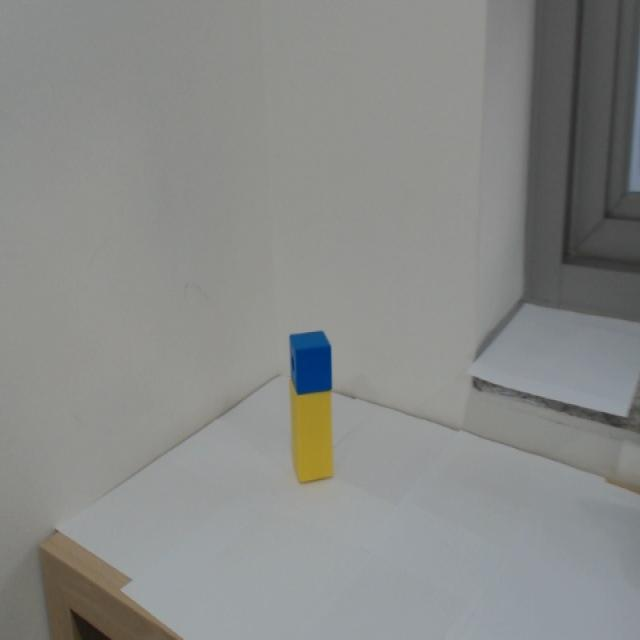cube: (286, 328, 334, 398)
